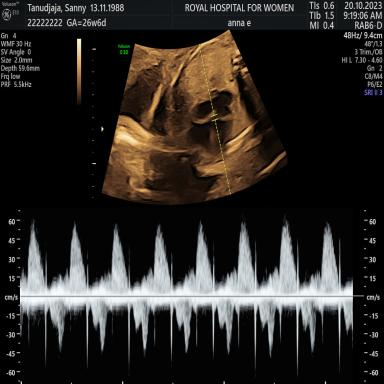Ultrasound-Waves: (27, 207, 352, 383)
